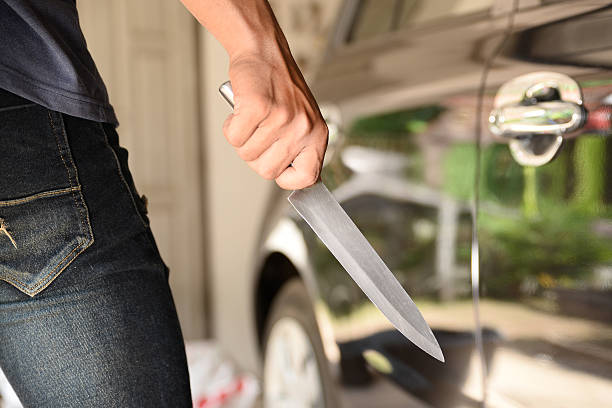knife: (218, 79, 449, 363)
